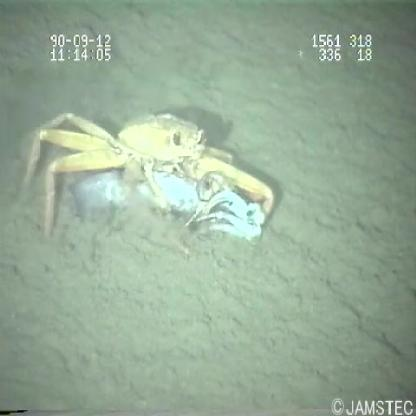Bio: (18, 102, 278, 252)
